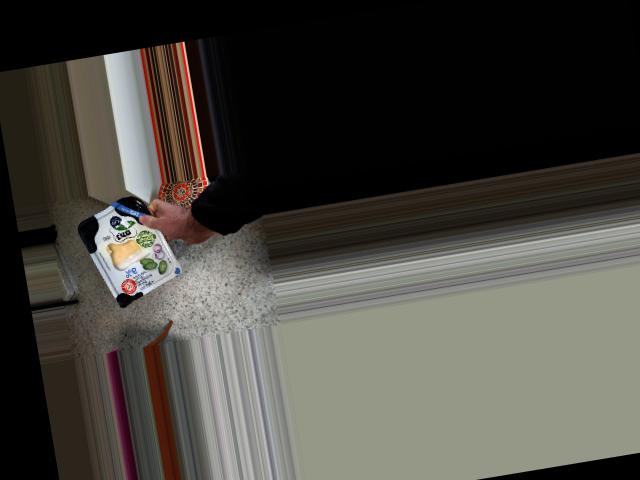cheese: (93, 203, 174, 299)
